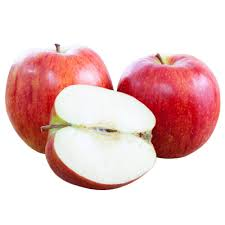apple: (39, 83, 158, 193)
